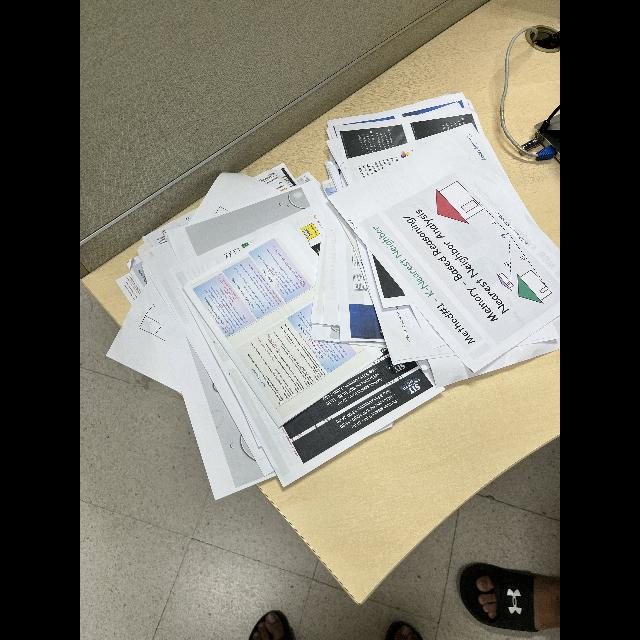reuseable_paper: (115, 89, 560, 509)
